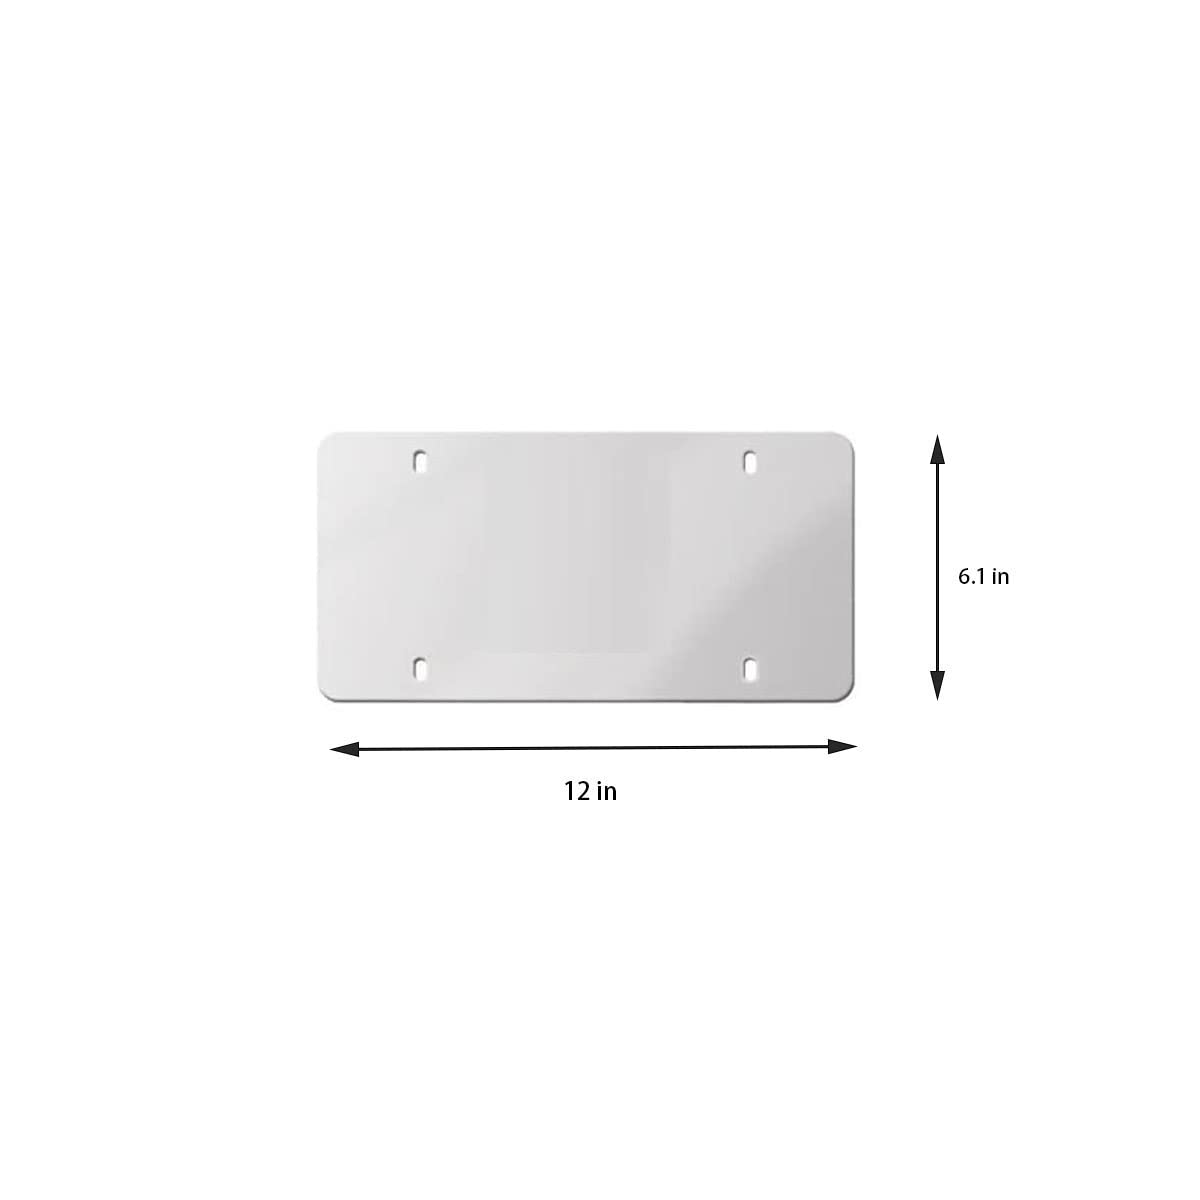12in: (565, 781, 616, 800)
6.1in: (959, 568, 1009, 584)
